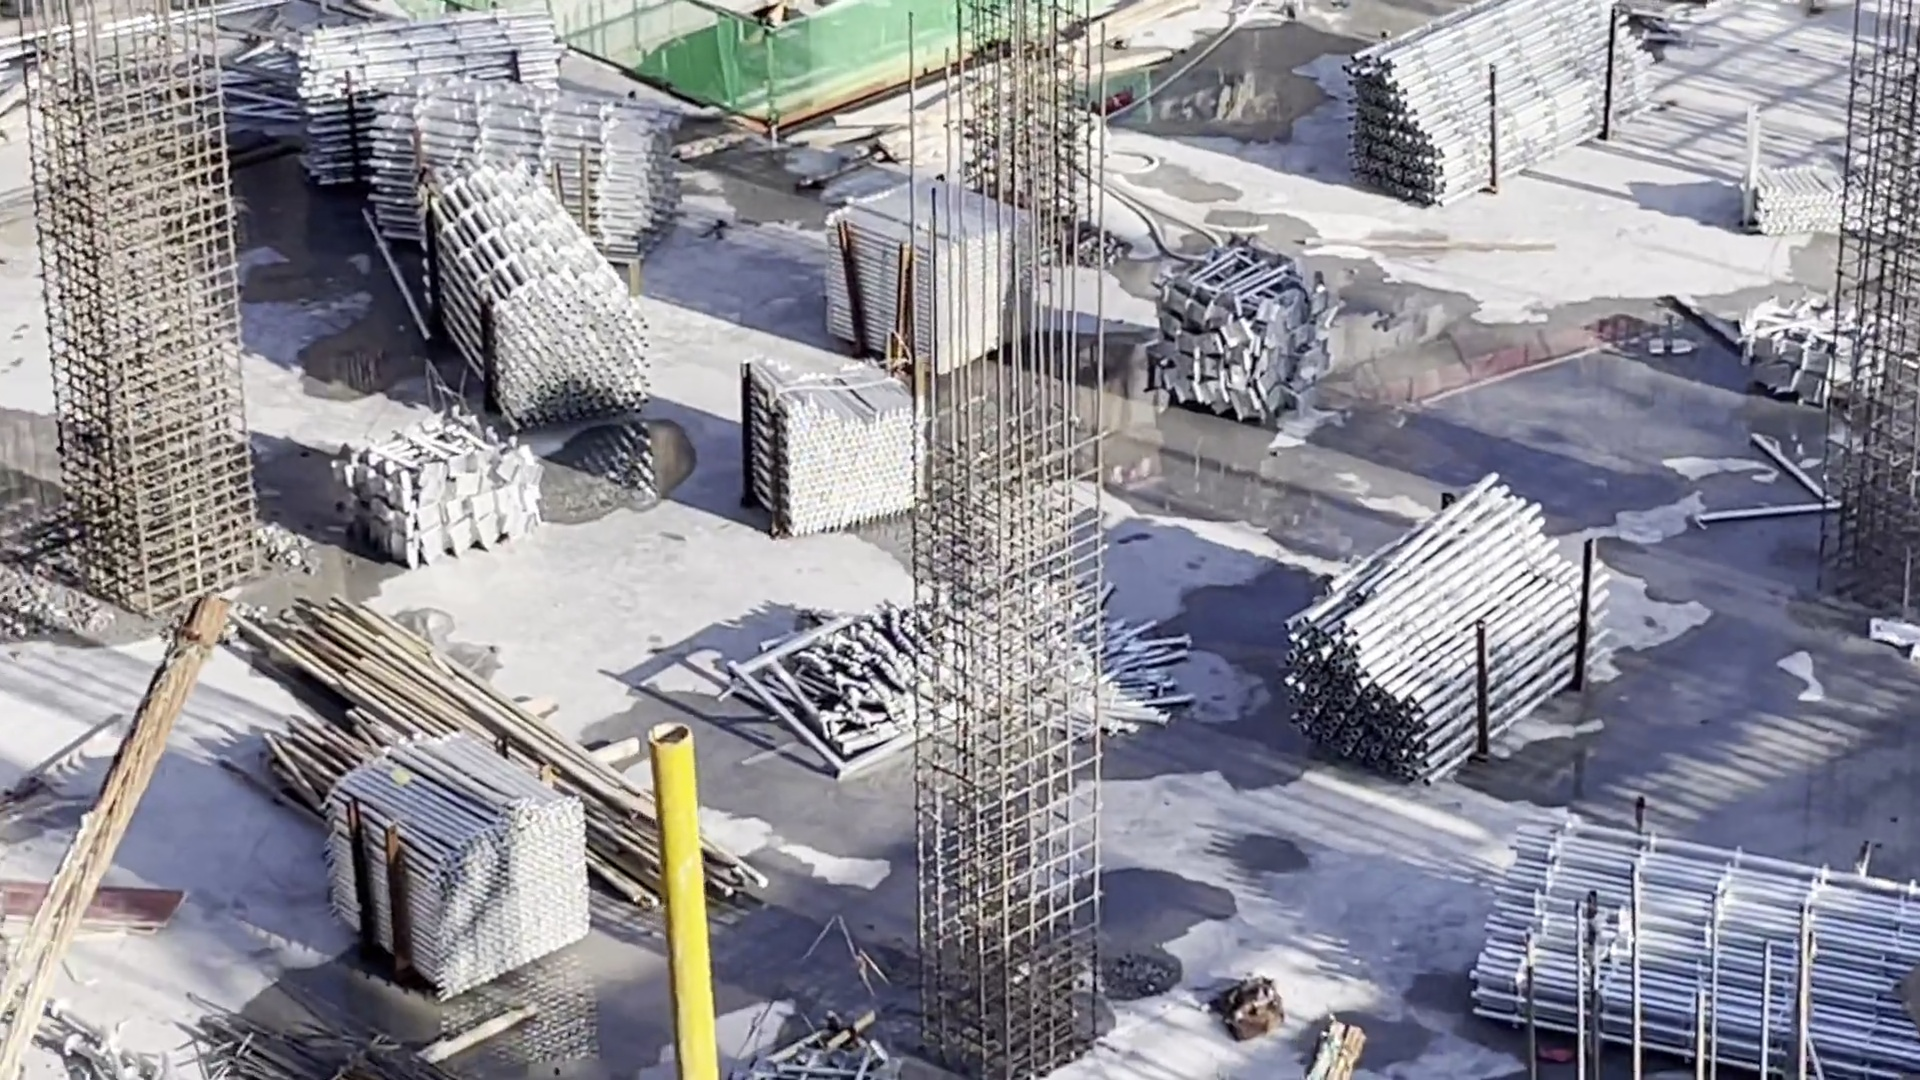scaffold: (1528, 832, 1888, 1072), (1291, 531, 1592, 765), (779, 599, 1172, 761), (1364, 1, 1651, 196), (335, 98, 674, 258), (287, 9, 554, 158), (360, 767, 567, 957), (459, 179, 588, 392), (757, 363, 913, 527), (869, 204, 1029, 360), (1735, 127, 1851, 229)
